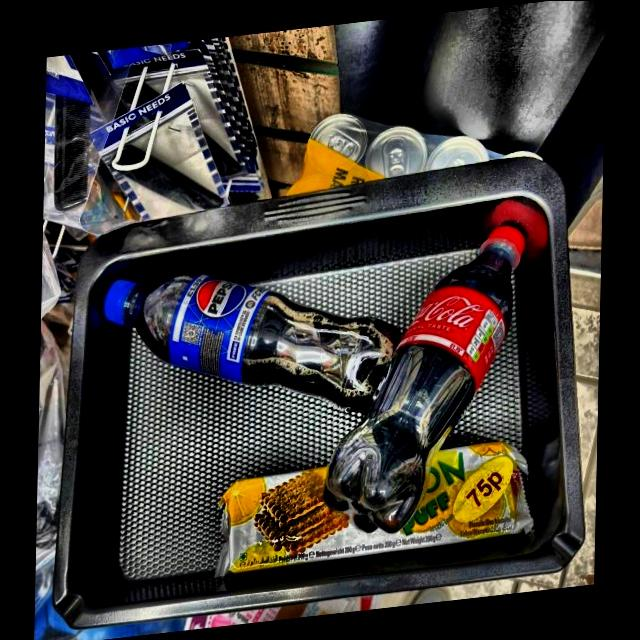coke-bottle: (324, 222, 544, 534)
lemon puff: (208, 440, 542, 576)
pepsi-bottle: (102, 269, 400, 407)
